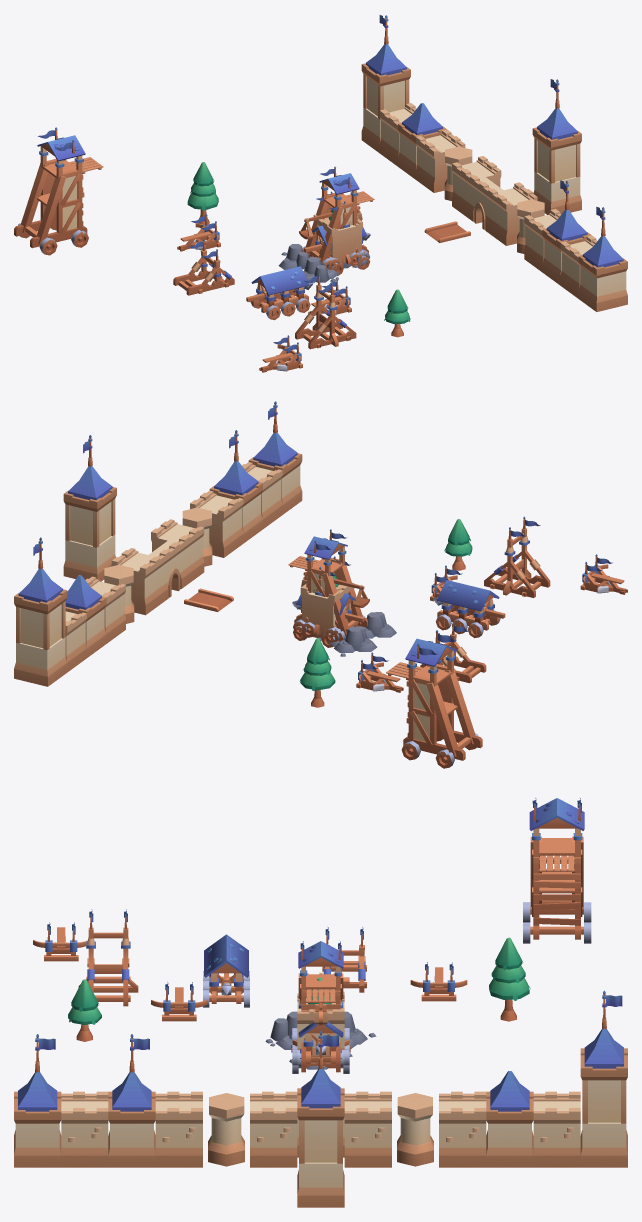
The model's file is animation.glb.
3 views of the same model, one above another, from view 1: azimuth 30°, elevation 25°; view 2: azimuth 150°, elevation 25°; view 3: azimuth 270°, elevation 25° (orthographic). The views are drawn at different scales.
Visible parts, largest first — view 1: siege_tower, siege-tower, siege-trebuchet.001, wall.004, wall.002, siege_ram, tower-square-base.004, tower-square-mid.002, wall.003, siege-catapult.001, tower-square-mid.001, tower-square-base.005 (+23 smaller); view 2: siege_tower, siege-tower, siege-trebuchet.001, wall.005, wall.003, siege_ram, tower-square-base.001, tower-square-mid.002, wall.004, tower-square-mid.001, tower-square-base.005, tower-square-top-roof.005 (+22 smaller); view 3: siege_tower, wall.002, wall.003, wall.004, wall.005, wall.006, wall.001, siege-tower, tower-hexagon-base.001, tower-hexagon-base.002, siege-trebuchet.001, siege_ram (+21 smaller).
Boxes of the visible parts, <box> form: siege_tower: <box>14,127,103,248</box>; siege-tower: <box>302,166,374,264</box>; siege-trebuchet.001: <box>295,274,356,349</box>; wall.004: <box>488,182,537,245</box>; wall.002: <box>416,129,465,192</box>; siege_ram: <box>251,266,309,312</box>; tower-square-base.004: <box>578,266,627,311</box>; tower-square-mid.002: <box>534,138,580,183</box>; wall.003: <box>452,156,501,218</box>; siege-catapult.001: <box>173,239,234,295</box>; tower-square-mid.001: <box>363,74,409,119</box>; tower-square-base.005: <box>533,171,581,214</box>; siege_tower: <box>386,630,482,760</box>; siege-tower: <box>288,529,367,636</box>; siege-trebuchet.001: <box>484,516,550,597</box>; wall.005: <box>190,490,243,557</box>; wall.003: <box>111,548,165,615</box>; siege_ram: <box>437,580,499,630</box>; tower-square-base.001: <box>14,637,67,686</box>; tower-square-mid.002: <box>65,499,115,547</box>; wall.004: <box>151,519,204,586</box>; tower-square-mid.001: <box>16,601,65,650</box>; tower-square-base.005: <box>63,535,115,581</box>; tower-square-top-roof.005: <box>63,466,116,511</box>; siege_tower: <box>529,798,584,939</box>; wall.002: <box>439,1091,486,1167</box>; wall.003: <box>344,1091,391,1167</box>; wall.004: <box>250,1091,297,1167</box>; wall.005: <box>155,1091,202,1167</box>; wall.006: <box>61,1091,108,1167</box>; wall.001: <box>533,1091,580,1167</box>; siege-tower: <box>298,941,343,1011</box>; tower-hexagon-base.001: <box>397,1093,433,1166</box>; tower-hexagon-base.002: <box>208,1093,244,1166</box>; siege-trebuchet.001: <box>78,909,138,1006</box>; siege_ram: <box>204,934,248,1003</box>.
Size of what is drawn, in the model's own units: 14.68 by 4.04 by 13.
Materials: 17 (17 with a texture image).
